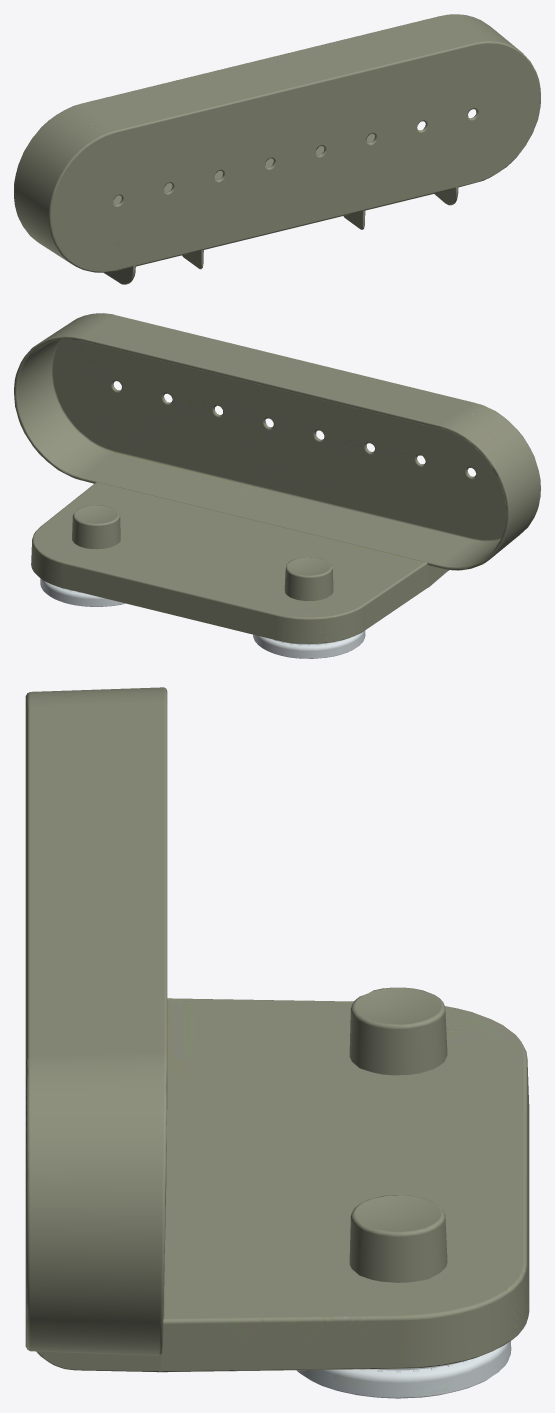
Rendered from ikea.glb.
3 views of the same model, one above another, from view 1: azimuth 30°, elevation 25°; view 2: azimuth 150°, elevation 25°; view 3: azimuth 270°, elevation 25° (orthographic). The views are drawn at different scales.
Visible parts, largest first — view 1: 00498896-Ãƒâ€“BONÃƒâ€žS001; view 2: 00498896-Ãƒâ€“BONÃƒâ€žS001; view 3: 00498896-Ãƒâ€“BONÃƒâ€žS001.
Part boxes in pixels (left/top/right/bottom): 00498896-Ãƒâ€“BONÃƒâ€žS001: left=14, top=14, right=540, bottom=284; 00498896-Ãƒâ€“BONÃƒâ€žS001: left=14, top=313, right=540, bottom=658; 00498896-Ãƒâ€“BONÃƒâ€žS001: left=25, top=687, right=529, bottom=1398.
Size of the model in its own units: 0.2799 by 0.1002 by 0.1231.
Materials: 1 (1 with a texture image).
